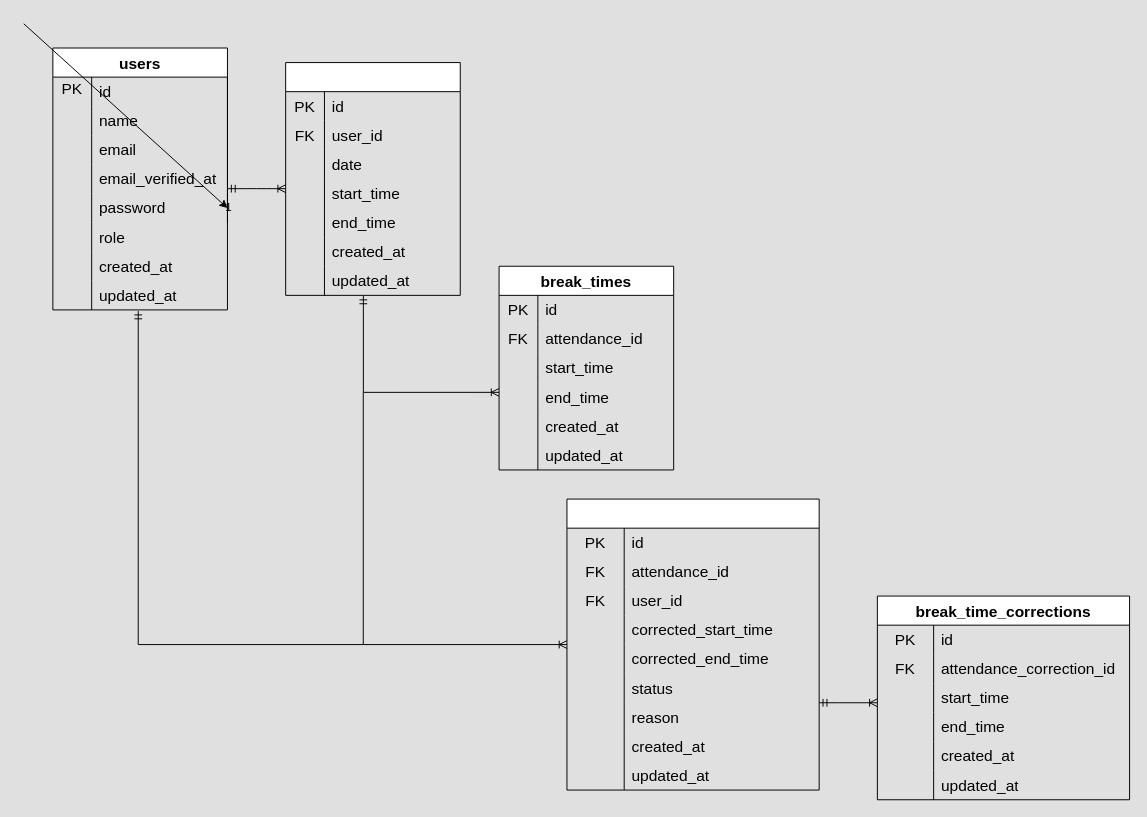
Image size: 1147x817. Some labels were removed from this diagram. The shapes that lost their labels are listed below. From the top down, each one's box as (x1, y1, x2, y2) in pixels, then its label:
(285, 62, 460, 295): attendances
(566, 498, 819, 790): attendance_corrections
